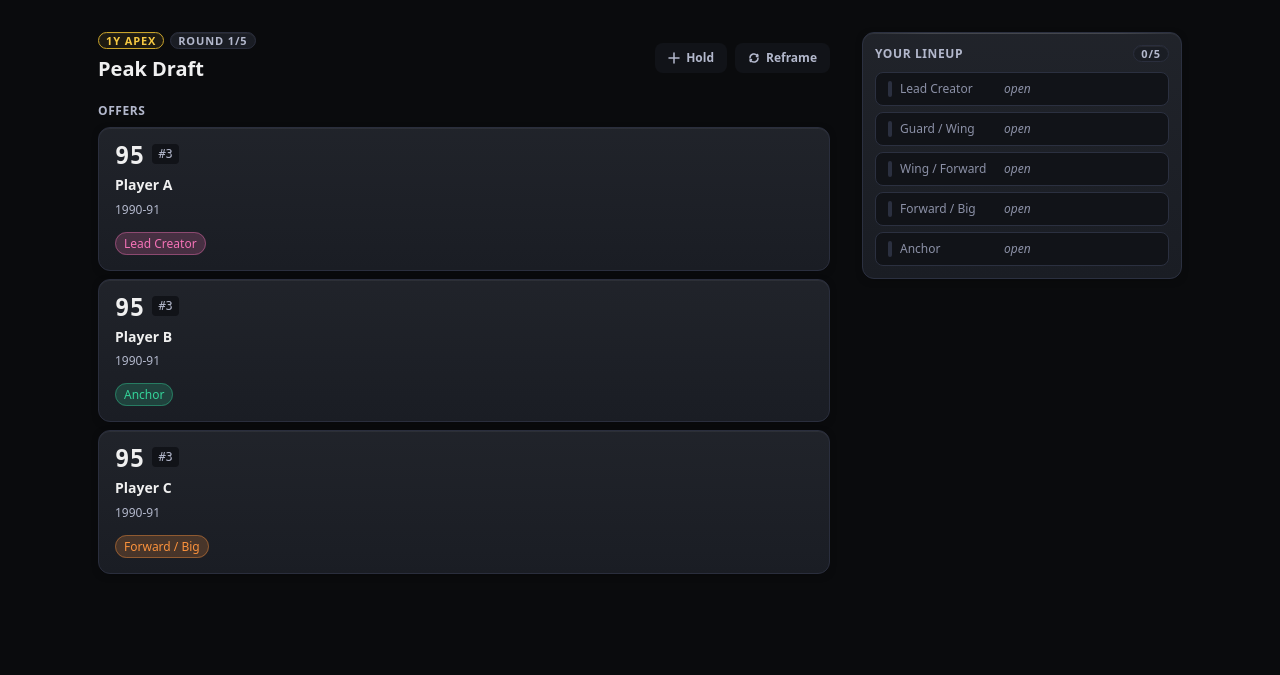
Scenario: DraftScreen › selecting an eligible offer opens role assignment, and Cancel returns to the offers
This screenshot has width=1280, height=675.
What coordinates should you click on to do the following:
click the button with test id "offer-card"
I would click on:
 (144, 184)
Its box is [98, 127, 830, 270].
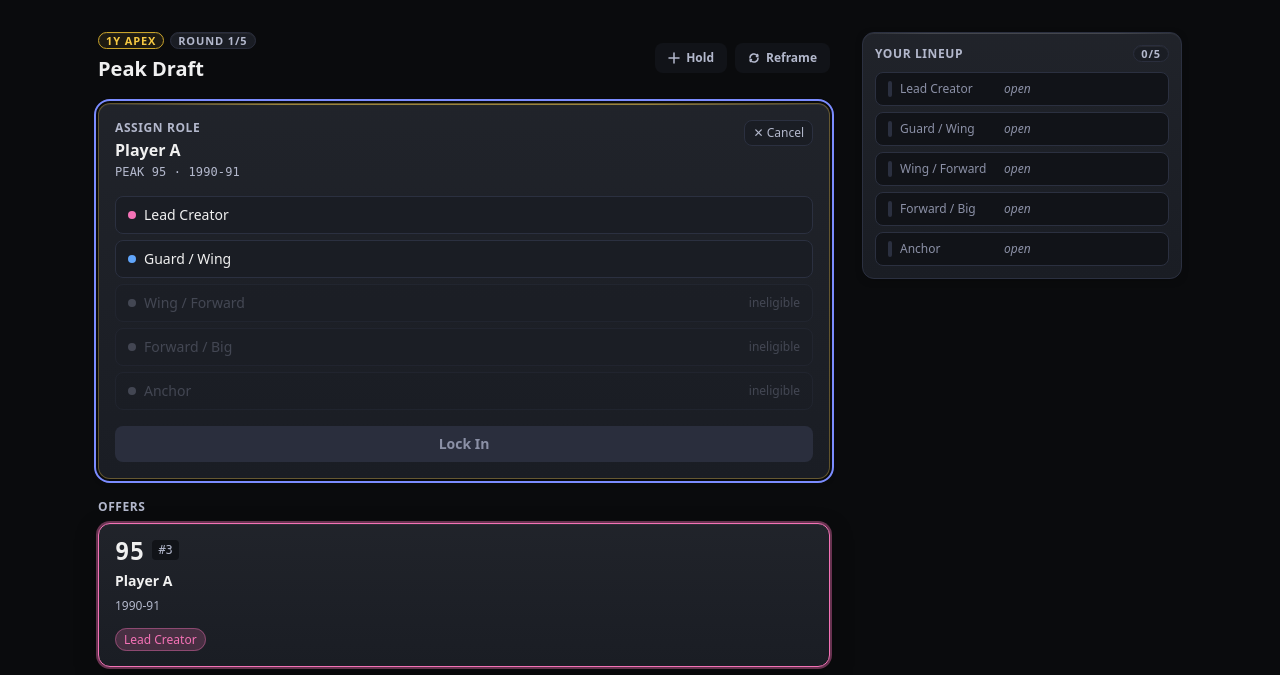
expect the text "Assign role" is shown: met, box [115, 119, 200, 136]
expect the button with test id "role-btn" is shown: met, box [115, 196, 813, 234]
expect the button with test id "lock-in" is disabled: met, box [115, 426, 813, 462]
What coordinates should you click on to do the following:
click the button "✕ Cancel"
I would click on:
 (779, 133)
Its box is [744, 120, 813, 146].
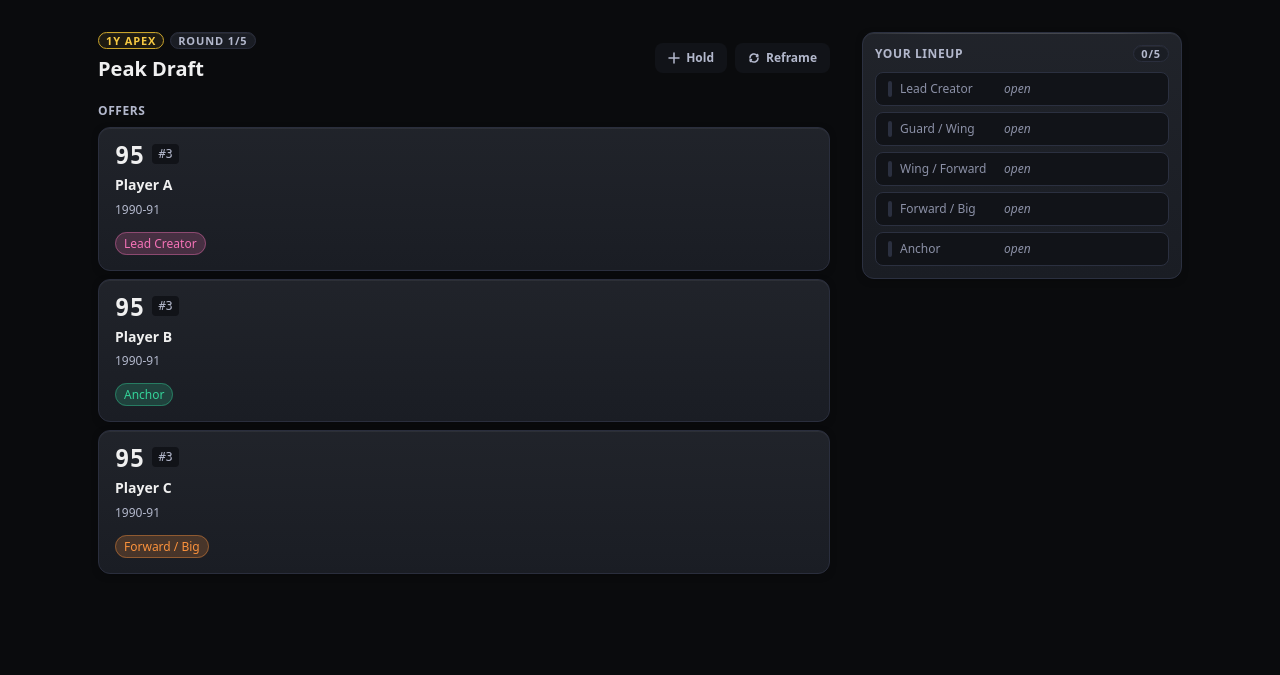
expect the number of buttons with test id "offer-card" is 3: met, box [98, 127, 830, 270]; [98, 278, 830, 422]; [98, 430, 830, 574]
expect the text "Assign role" is gone: met
